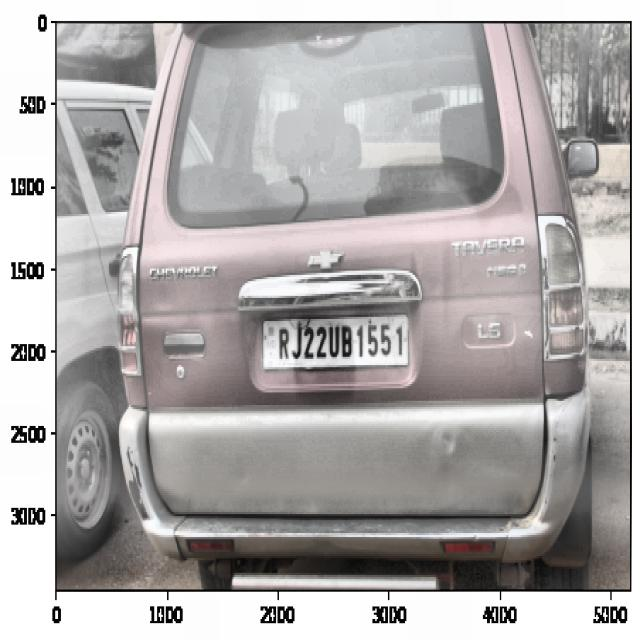license_plate: (274, 322, 408, 369)
